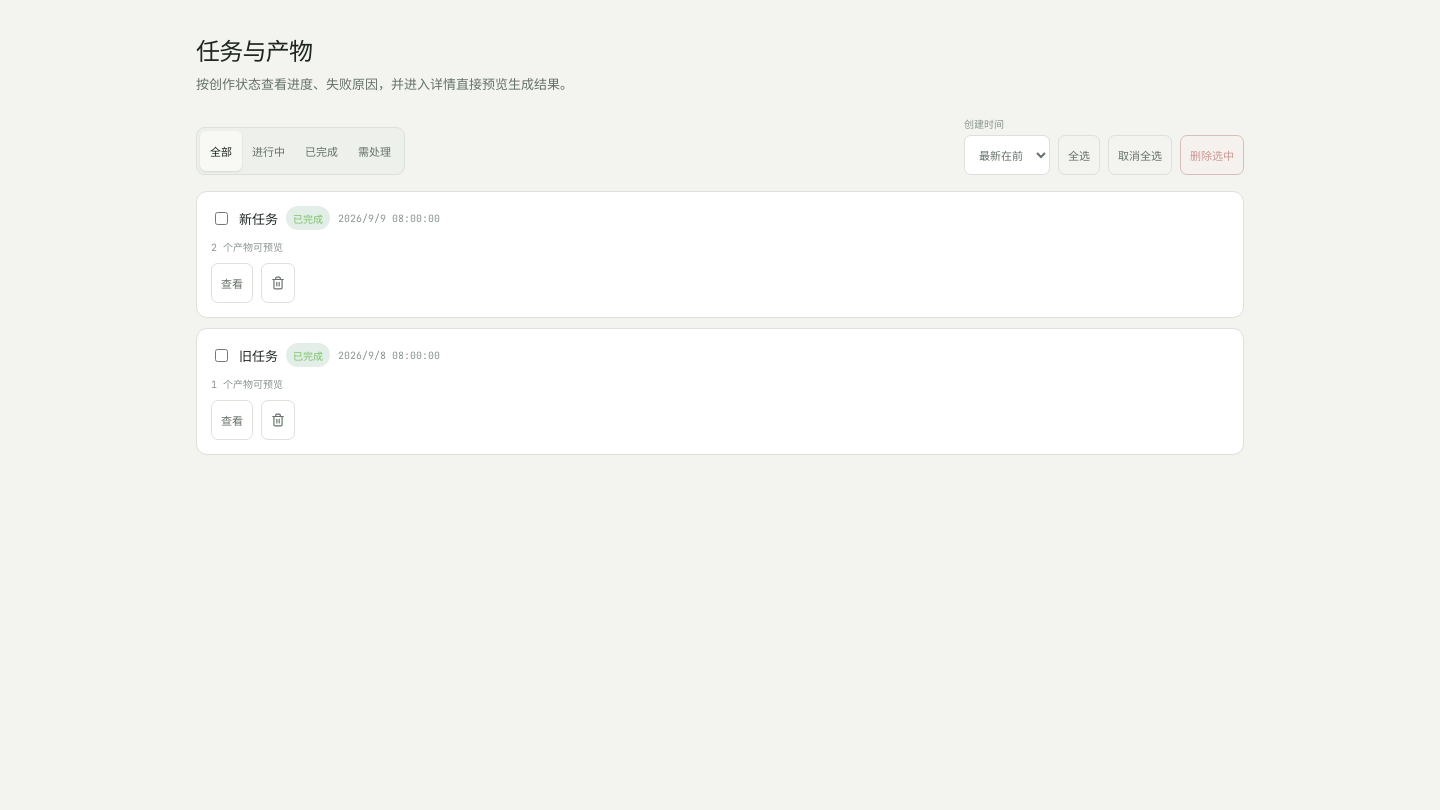
Test case: AigcWorkbenchPage 创作台 › 按创建时间排序、选择并批量删除任务
Expected: the text "新任务" is shown, [239,209,278,228]
Select "最早在前" in the dropdown named "任务创建时间排序" at [1007, 155], box [964,135,1050,175]
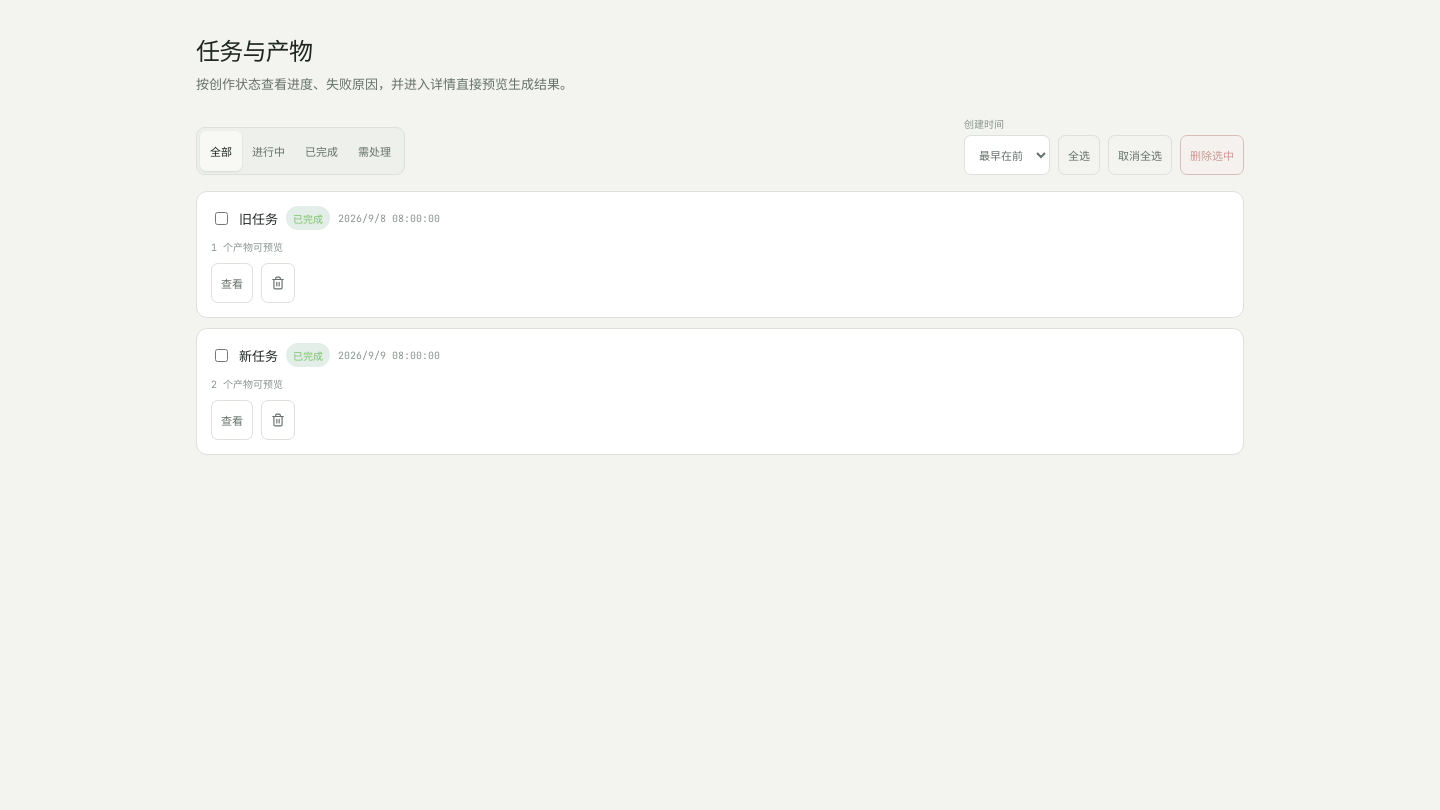
Click the button "全选" at [1079, 155], box [1058,135,1100,175]
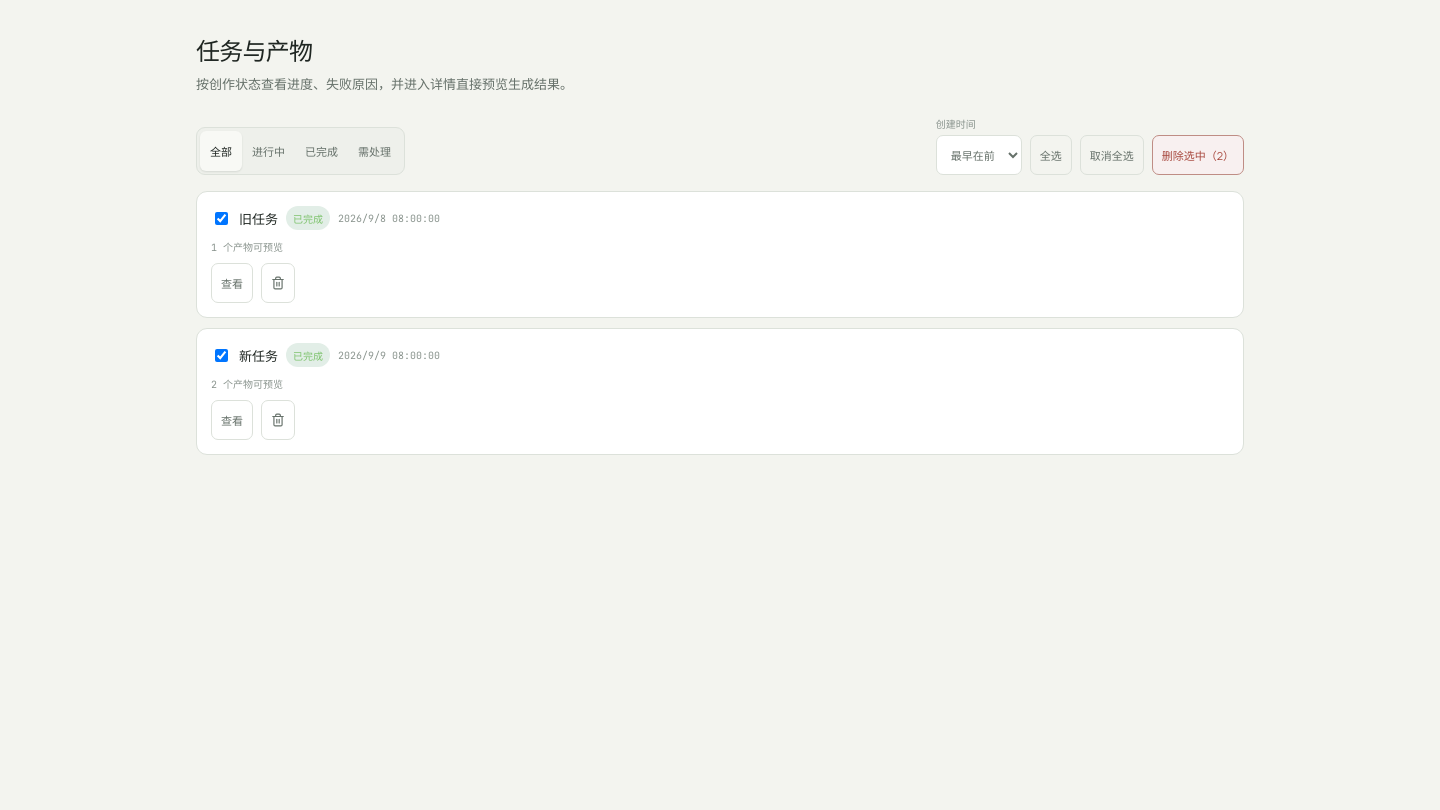
Click the button "删除选中（2）" at [1198, 155], box [1152,135,1244,175]
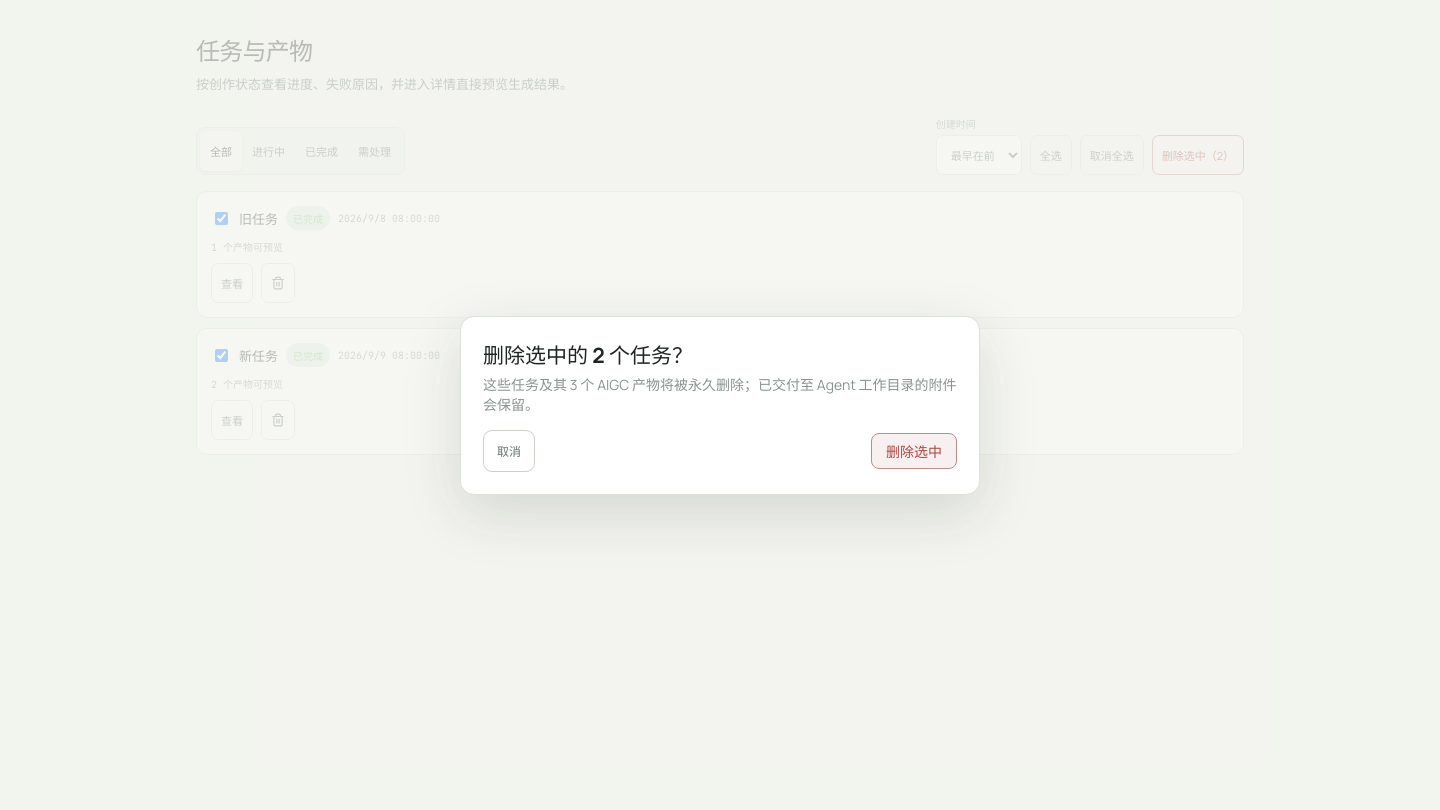
Expected: the text "这些任务及其 3 个 AIGC 产物将被永久删除；已交付至 Agent 工作目录的附件会保留。" is shown, [483,374,957,414]
Click the button "删除选中" at [914, 450], box [871,432,957,468]
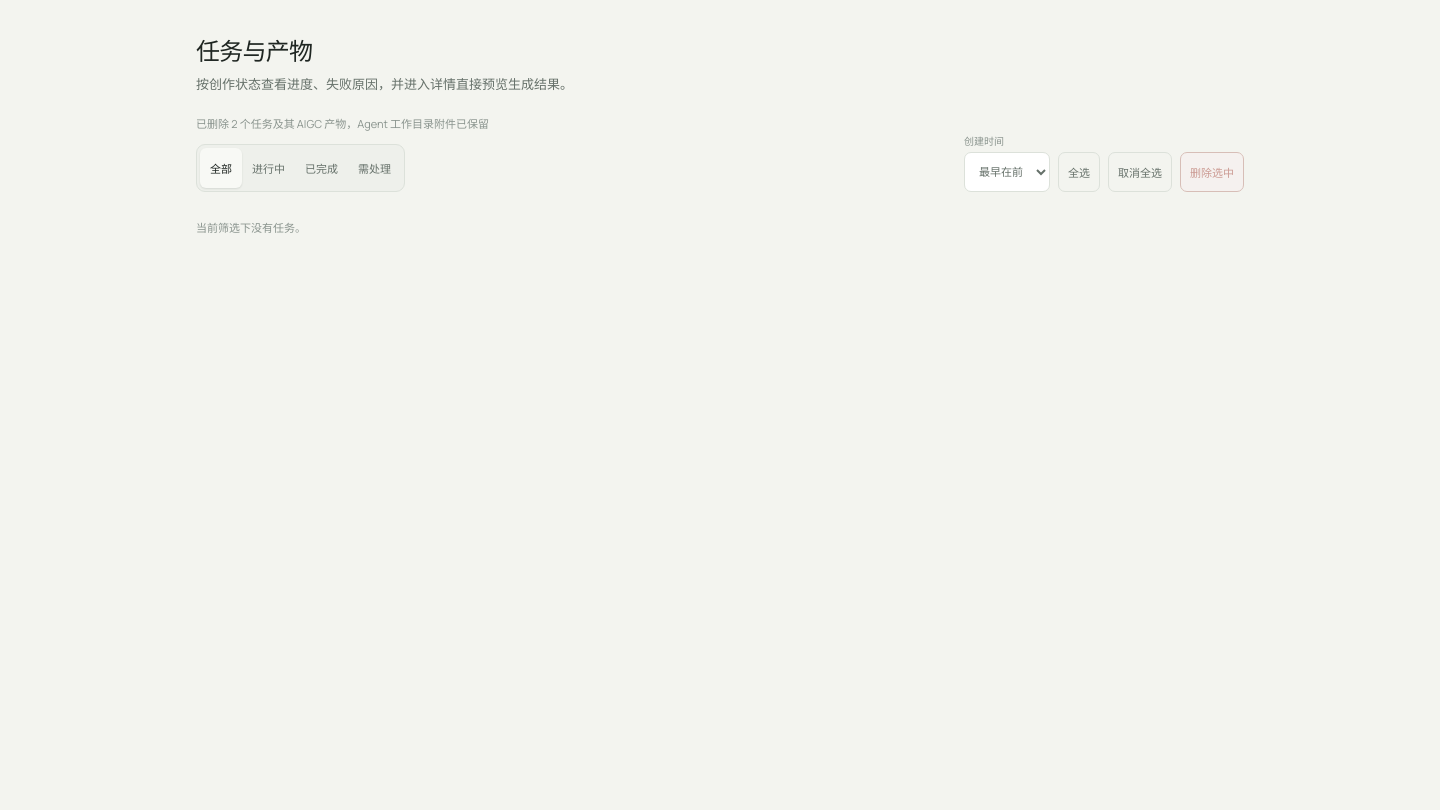
Expected: the text "已删除 2 个任务及其 AIGC 产物，Agent 工作目录附件已保留" is shown, [196,116,489,131]
